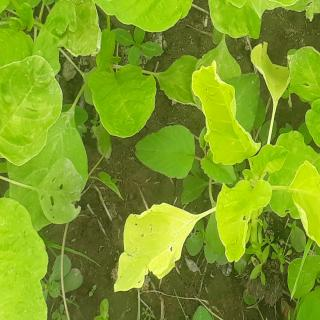kekurangan_mangan: (112, 200, 197, 295), (250, 36, 293, 104)
virus_keriting: (34, 0, 79, 75)
